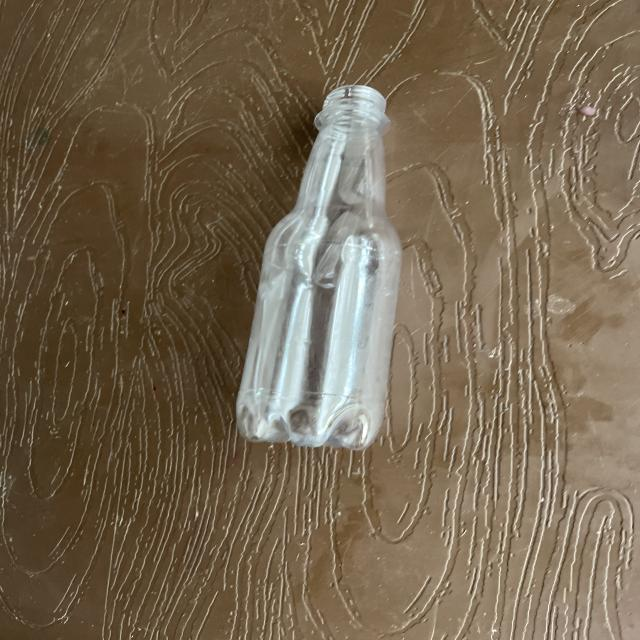PET_ClearBottle: (197, 85, 597, 630)
